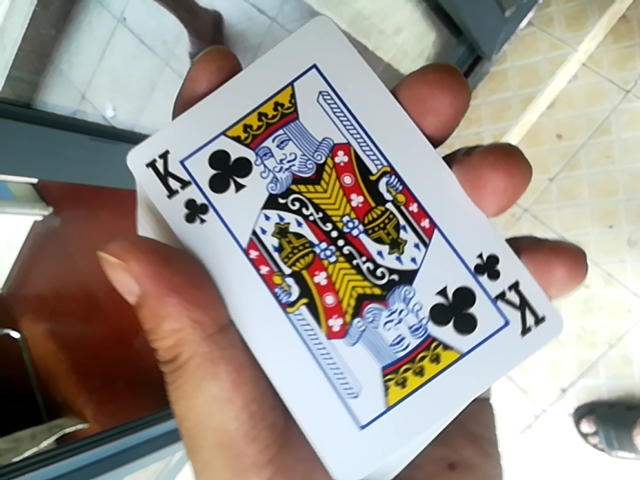mh k: (99, 6, 580, 472)
